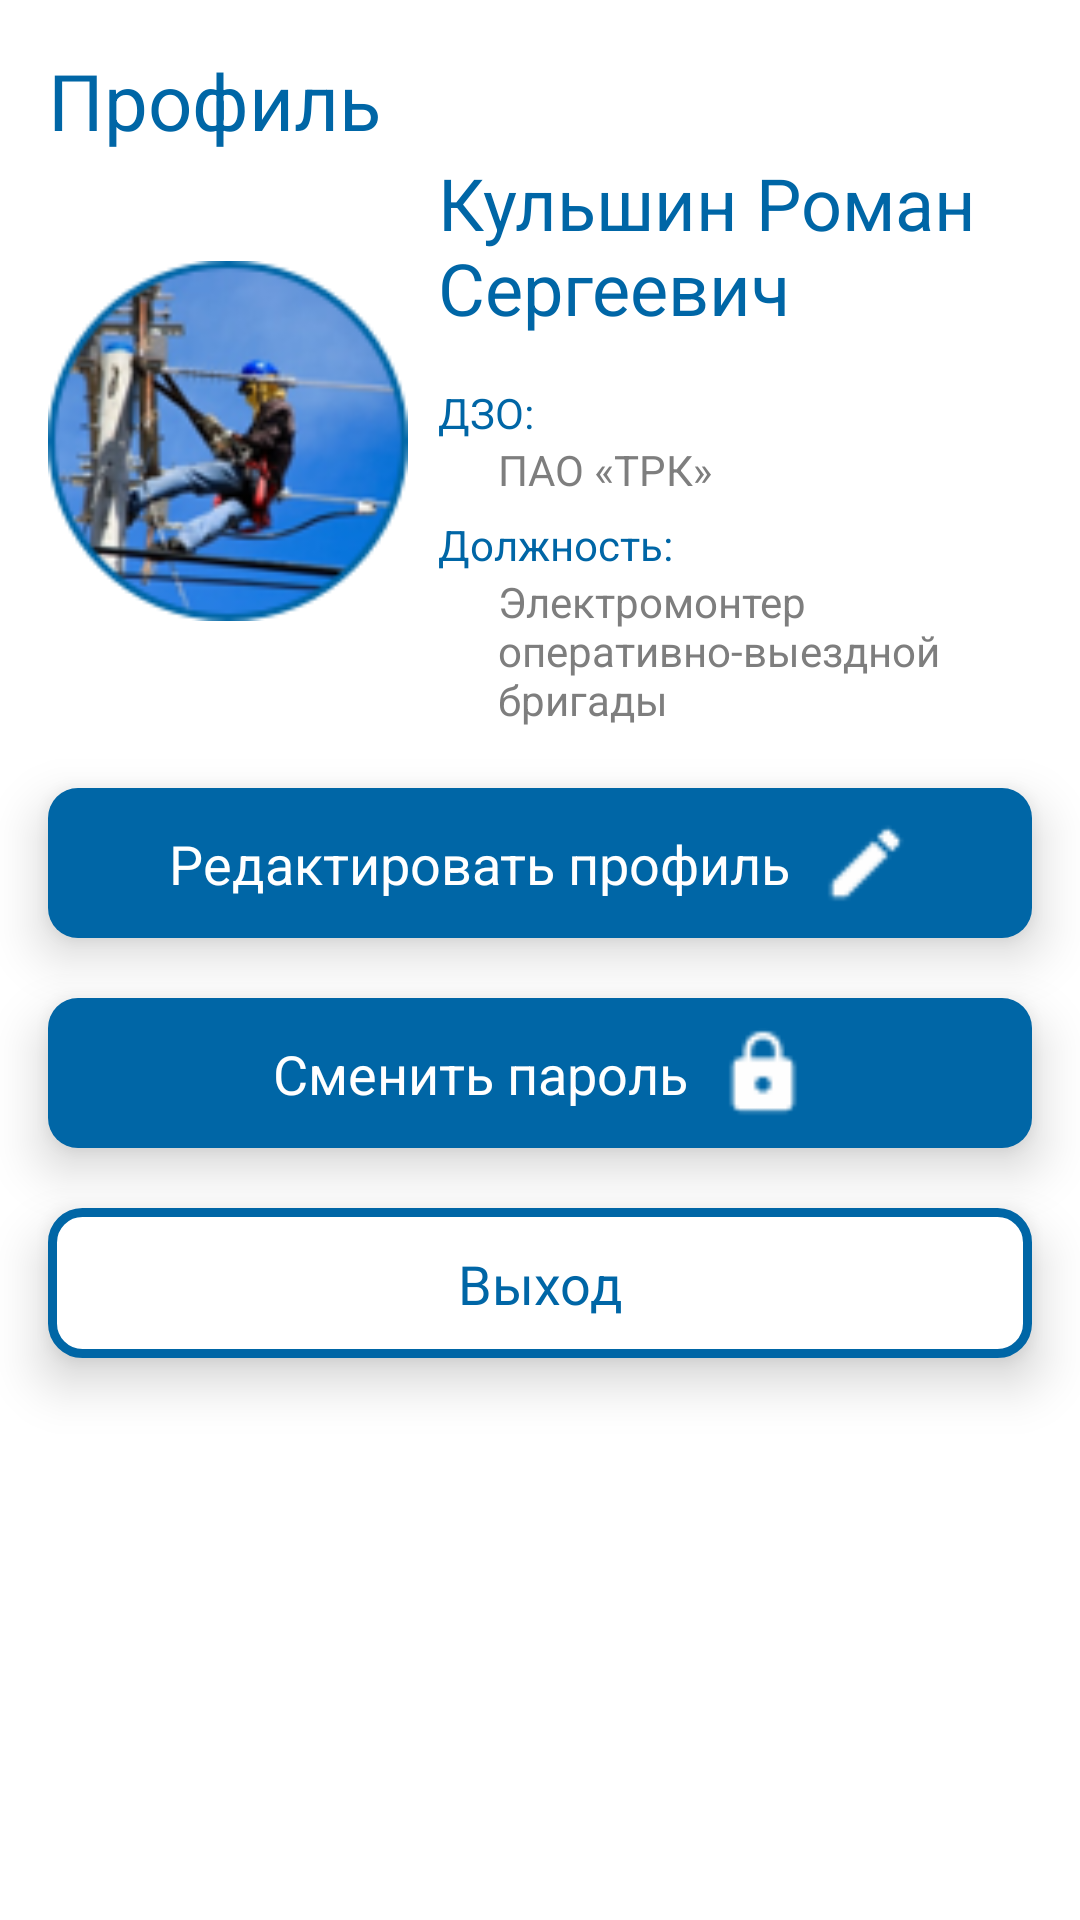

Named icons in this screenshot (1080 × 1920) and their bounding boxes, rect(x1, y1, x2, y2):
edit: rect(829, 827, 902, 900)
lock: rect(729, 1030, 797, 1114)
